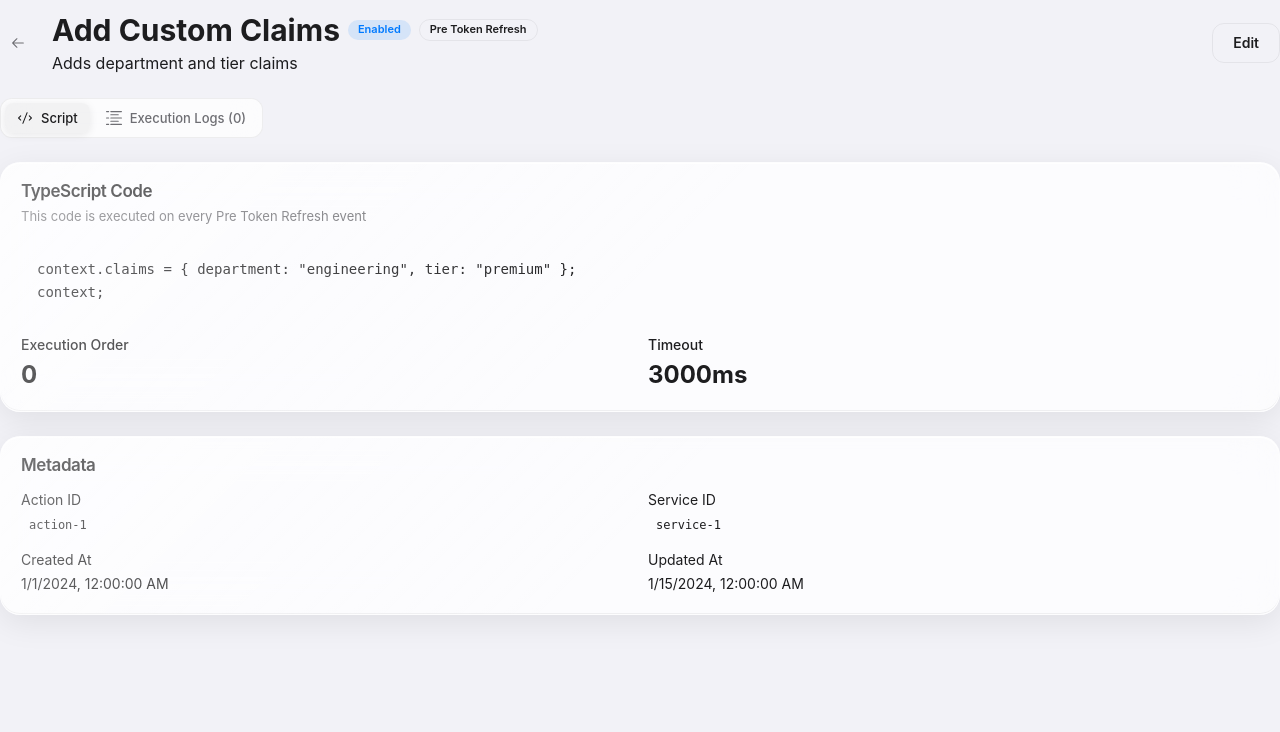
Action Detail Page › renders empty state when no logs
This screenshot has width=1280, height=732.
Expected: the heading "Add Custom Claims" is shown, 52,12 -> 340,48
Click the tab "Execution Logs (0)" at (176, 118), box 94,103 -> 258,134
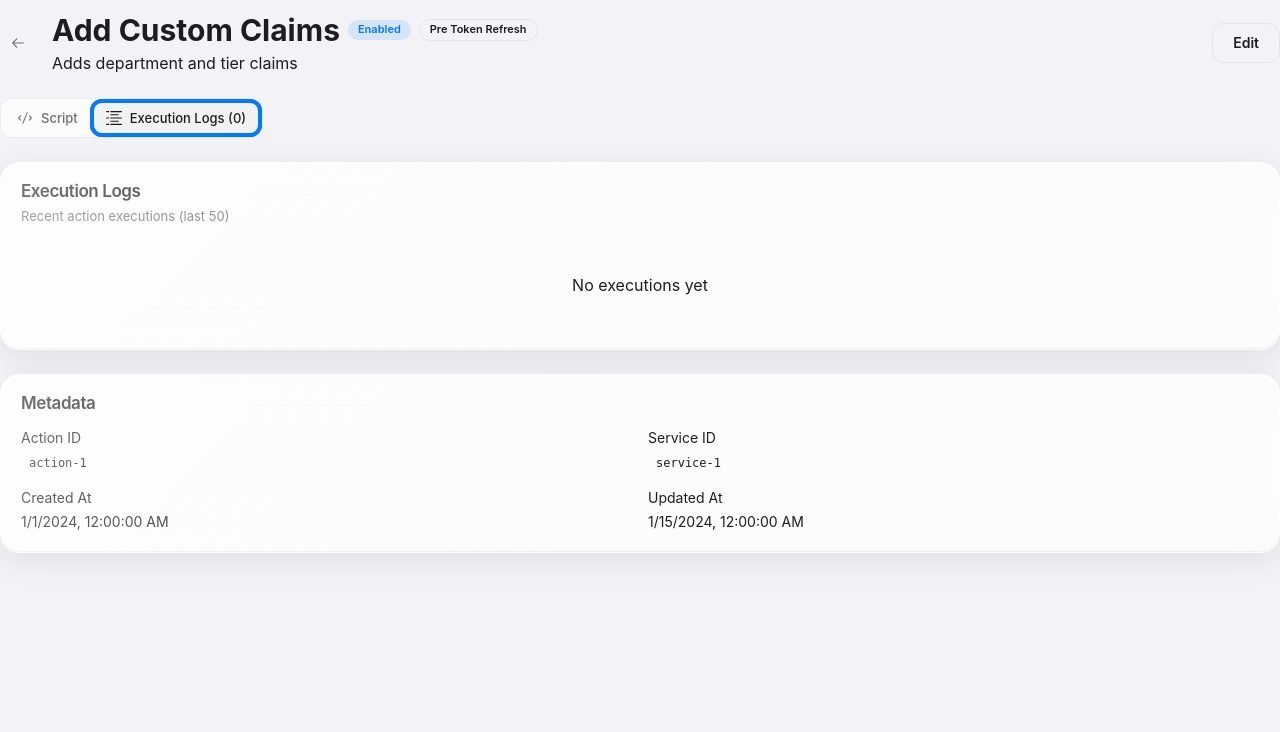
Expected: the text "No executions yet" is shown, 572,275 -> 708,295
